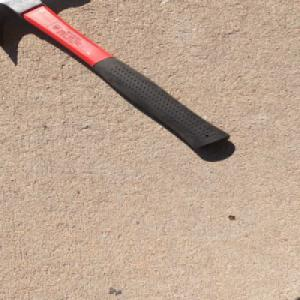Hammer: (0, 0, 235, 151)
